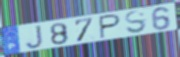6: (151, 6, 171, 32)
7: (74, 17, 95, 43)
8: (49, 22, 70, 46)
J: (25, 24, 45, 50)
P: (98, 13, 122, 40)
S: (124, 9, 148, 34)
